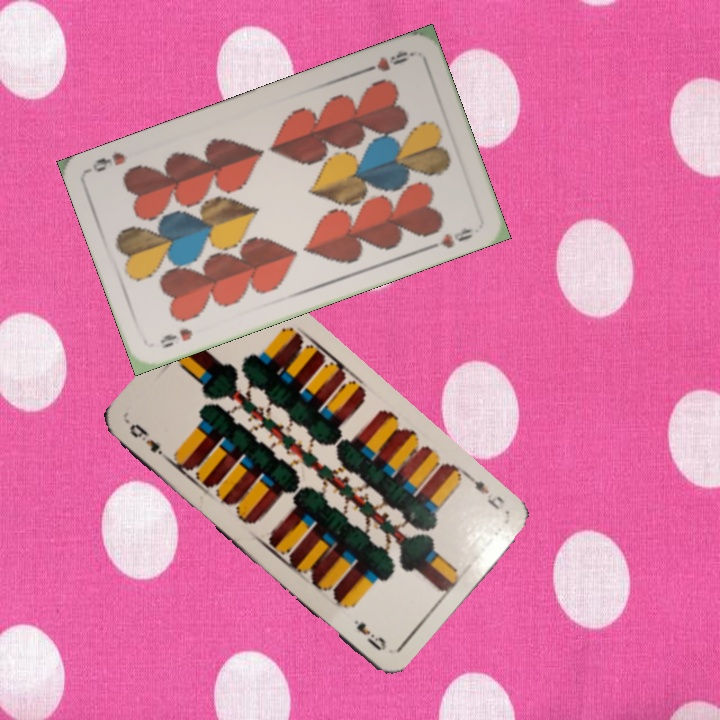E9: (125, 419, 172, 463), (463, 470, 507, 513)
H9: (358, 46, 416, 76), (155, 323, 195, 351)
